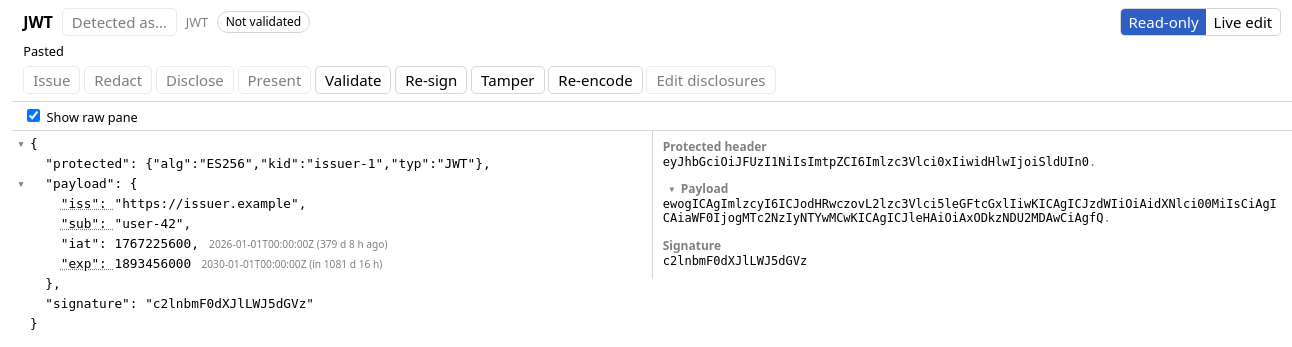
Test: live edit › switches the main pane to an editor with the document text
Click the switch labelled "Live edit" at (1200, 22), box [1120, 8, 1281, 36]
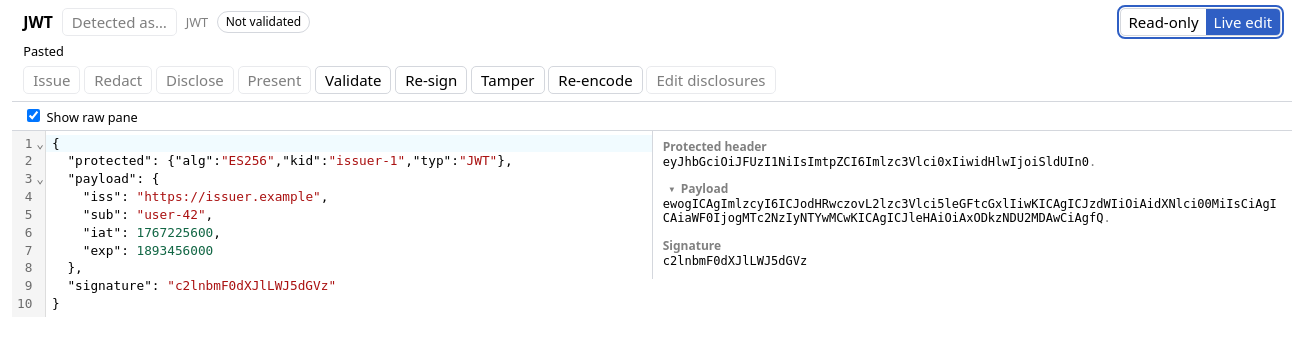
Expected: the element with test id "live-editor" shows "\"iss\": \"https://issuer.example\"", [12, 130, 652, 317]
